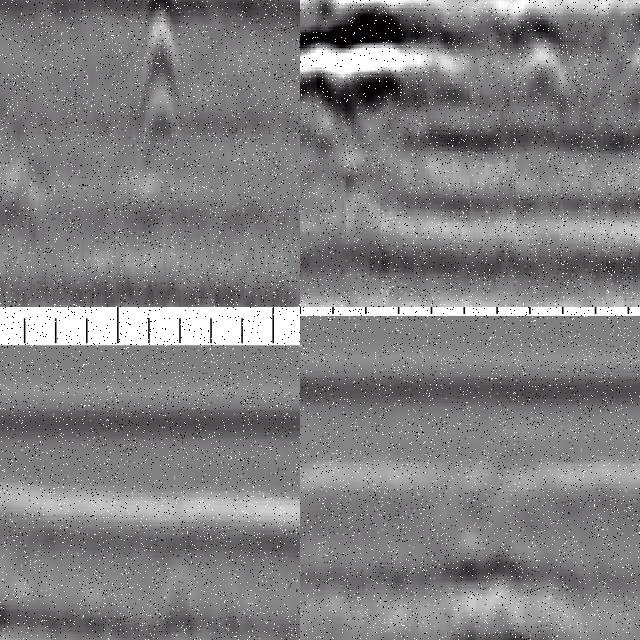crack: (143, 1, 183, 180), (161, 570, 192, 640)
loose: (301, 1, 565, 145), (376, 548, 586, 640)
